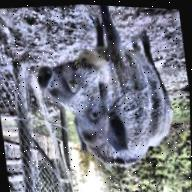boar: (25, 2, 191, 187)
